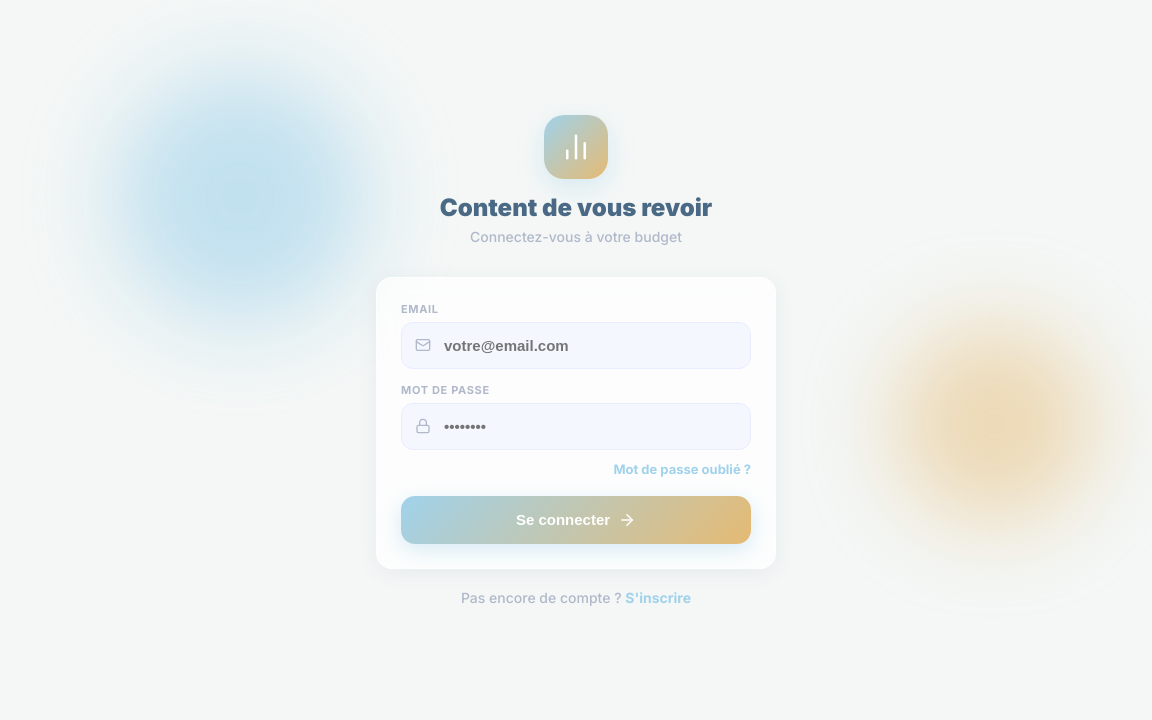
Test case: demande du lien de réinitialisation › la page de connexion mène à « Mot de passe oublié »
Click the link "Mot de passe oublié ?" at (682, 468), box [613,460,751,476]
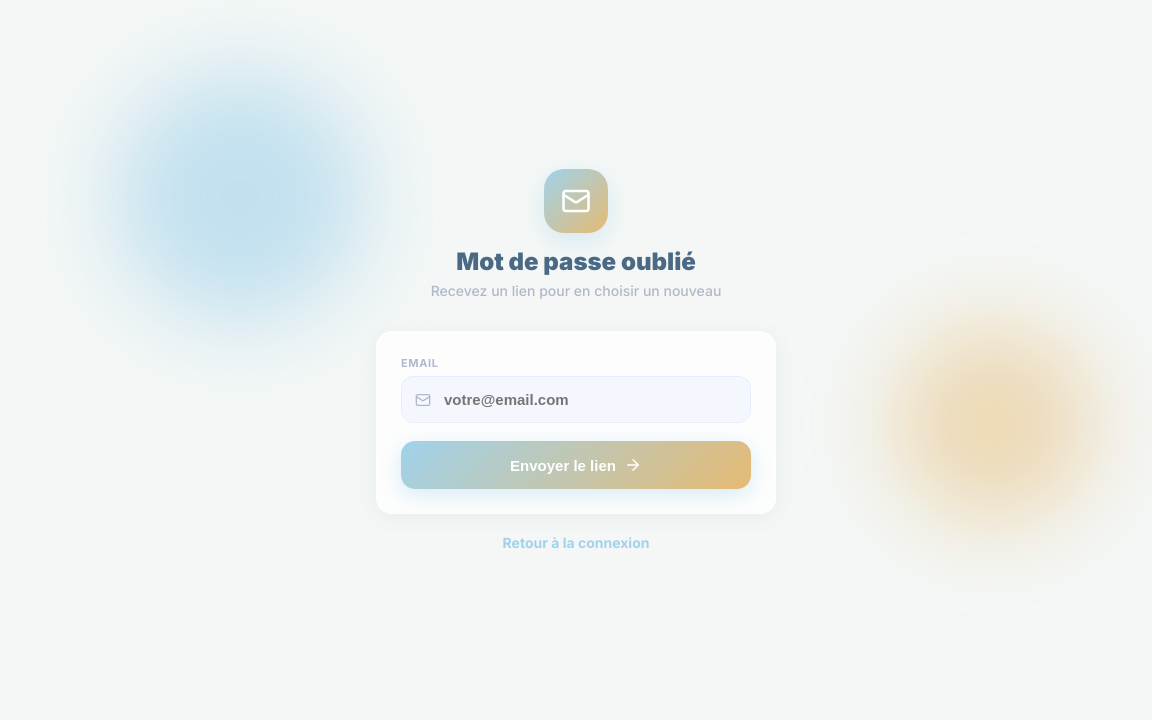
Expected: the element that starts with "Mot de passe oublié" shows "Recevez un lien pour en choisir un nouveau", [431,282,721,299]
